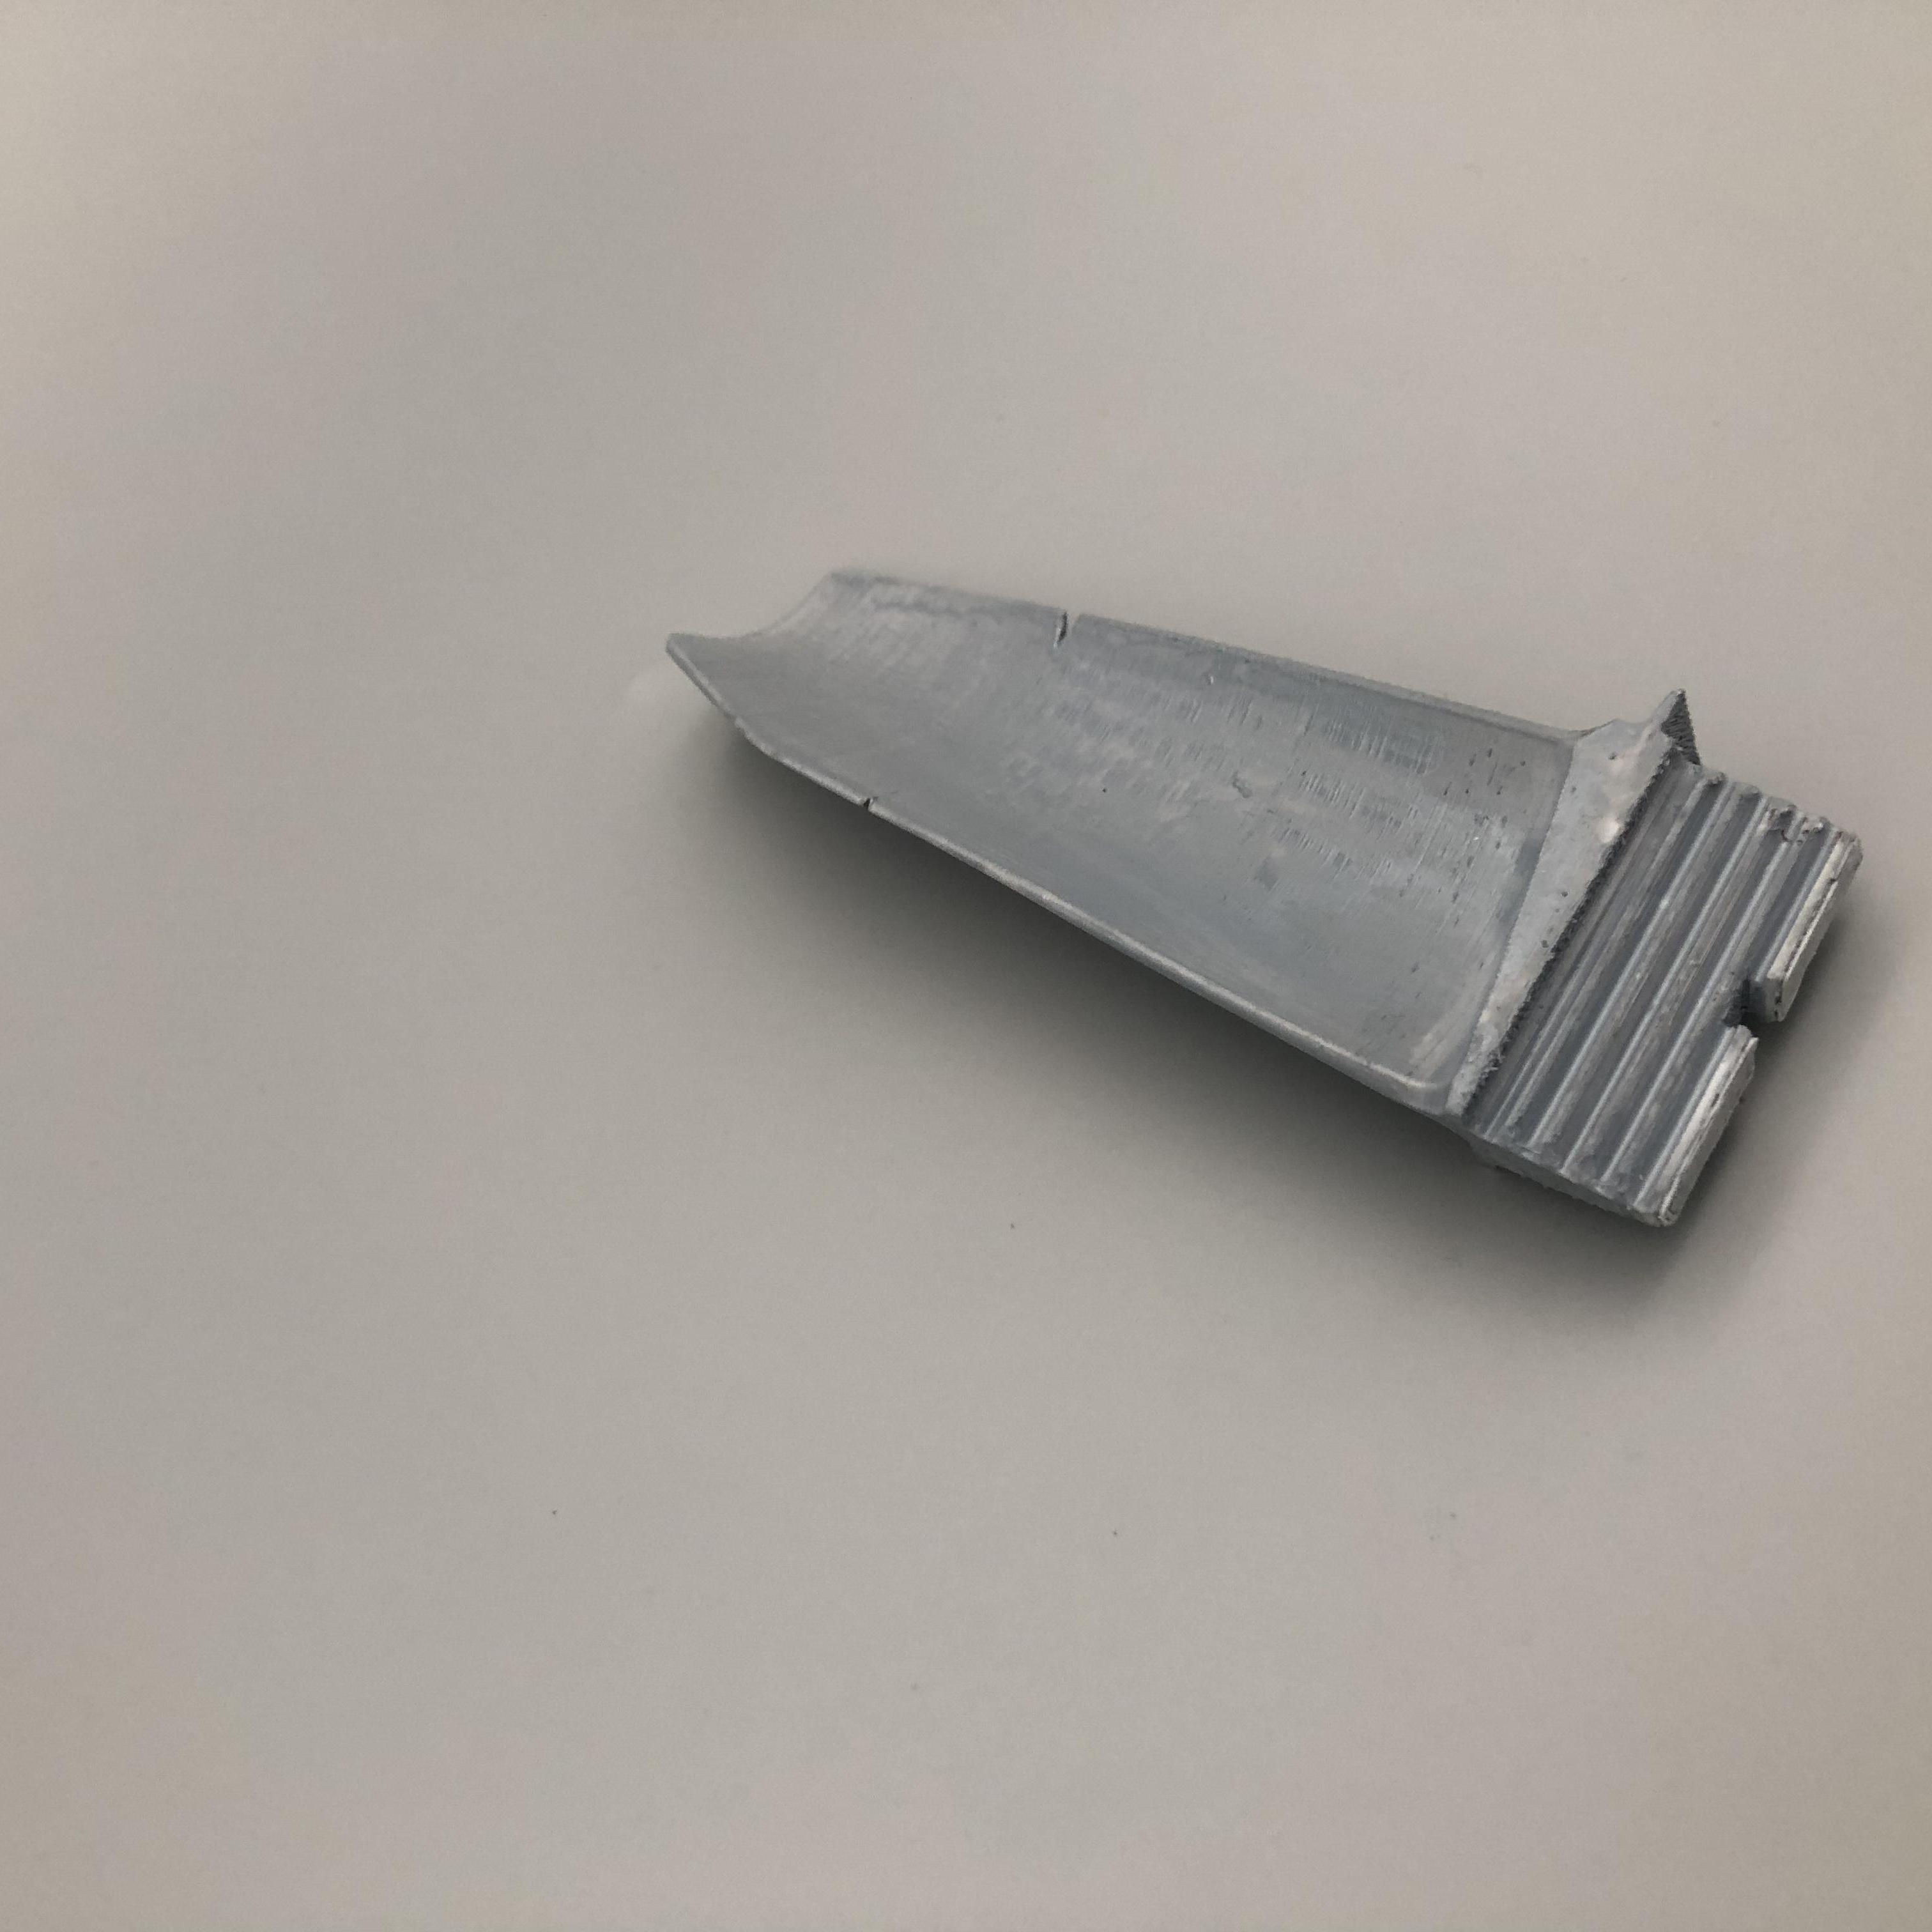groove: (1054, 609, 1095, 646), (858, 789, 886, 810)
